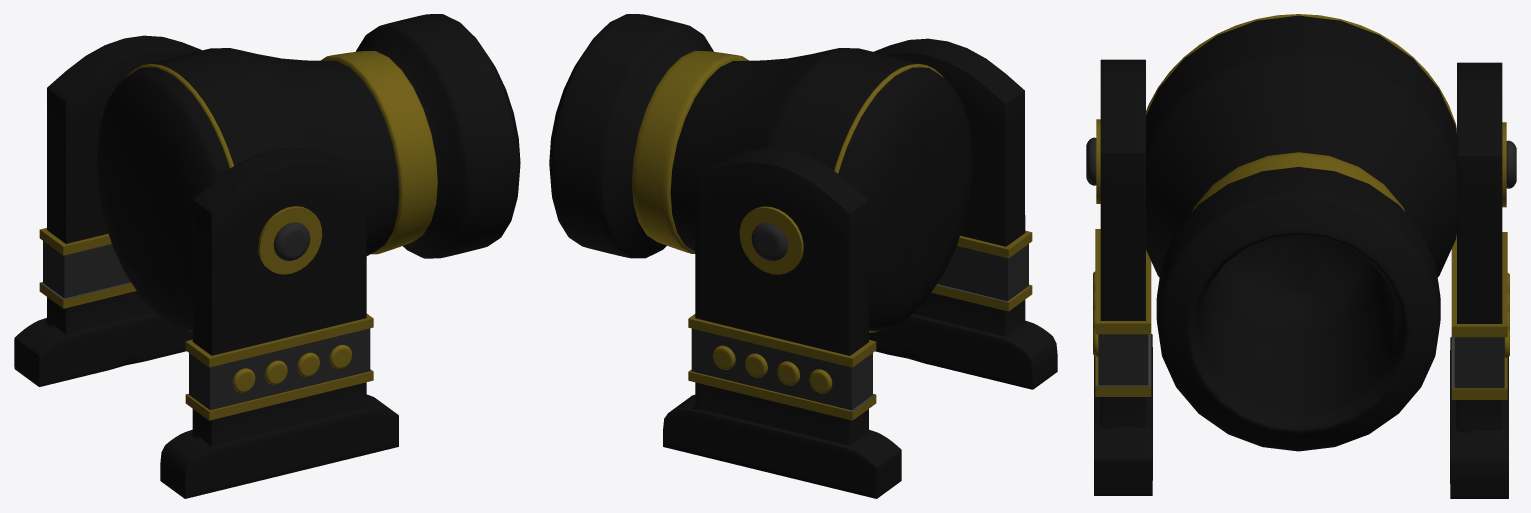
Rendered from cannon.fbx.
3 renders of one model, left to right at view 1: azimuth 30°, elevation 25°; view 2: azimuth 150°, elevation 25°; view 3: azimuth 270°, elevation 25°, orthographic. The views are drawn at different scales.
Parts seen in each view (by area): view 1: Cylinder005; view 2: Cylinder005; view 3: Cylinder005.
Boxes of the visible parts, left/top/right/bottom form: Cylinder005: left=14, top=14, right=520, bottom=498; Cylinder005: left=549, top=14, right=1057, bottom=498; Cylinder005: left=1086, top=14, right=1516, bottom=498.
Size of the model in its own units: 80.17 by 70.04 by 67.56.
